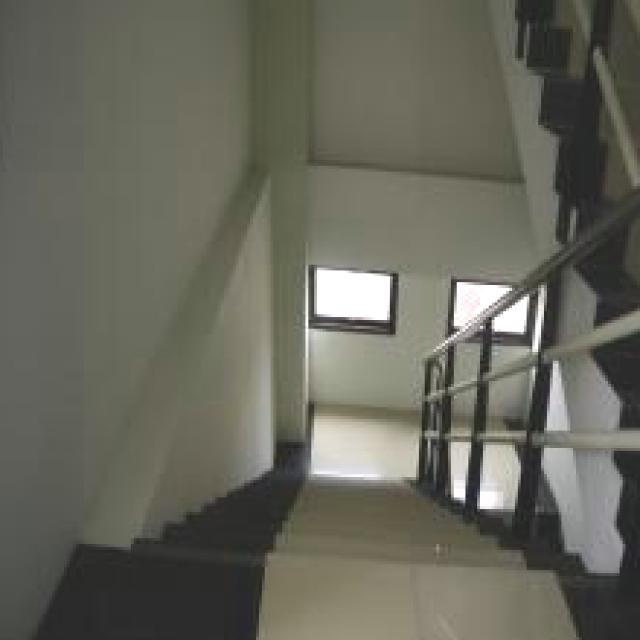downstair: (257, 470, 443, 633)
